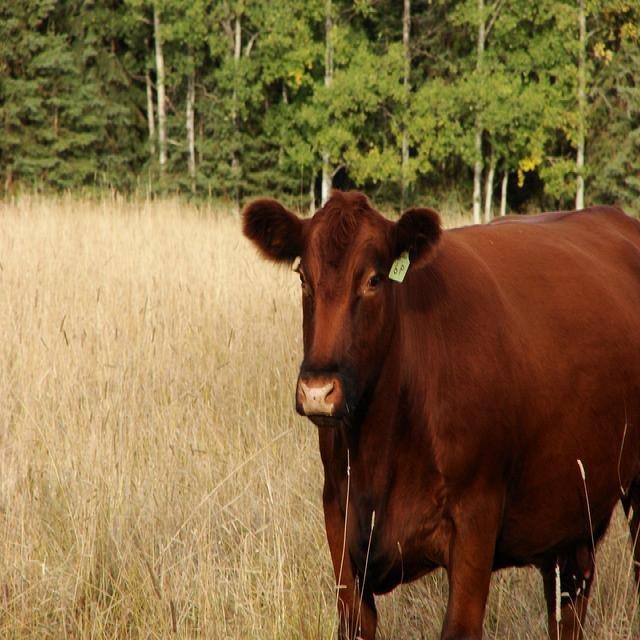cow: (236, 184, 638, 625)
